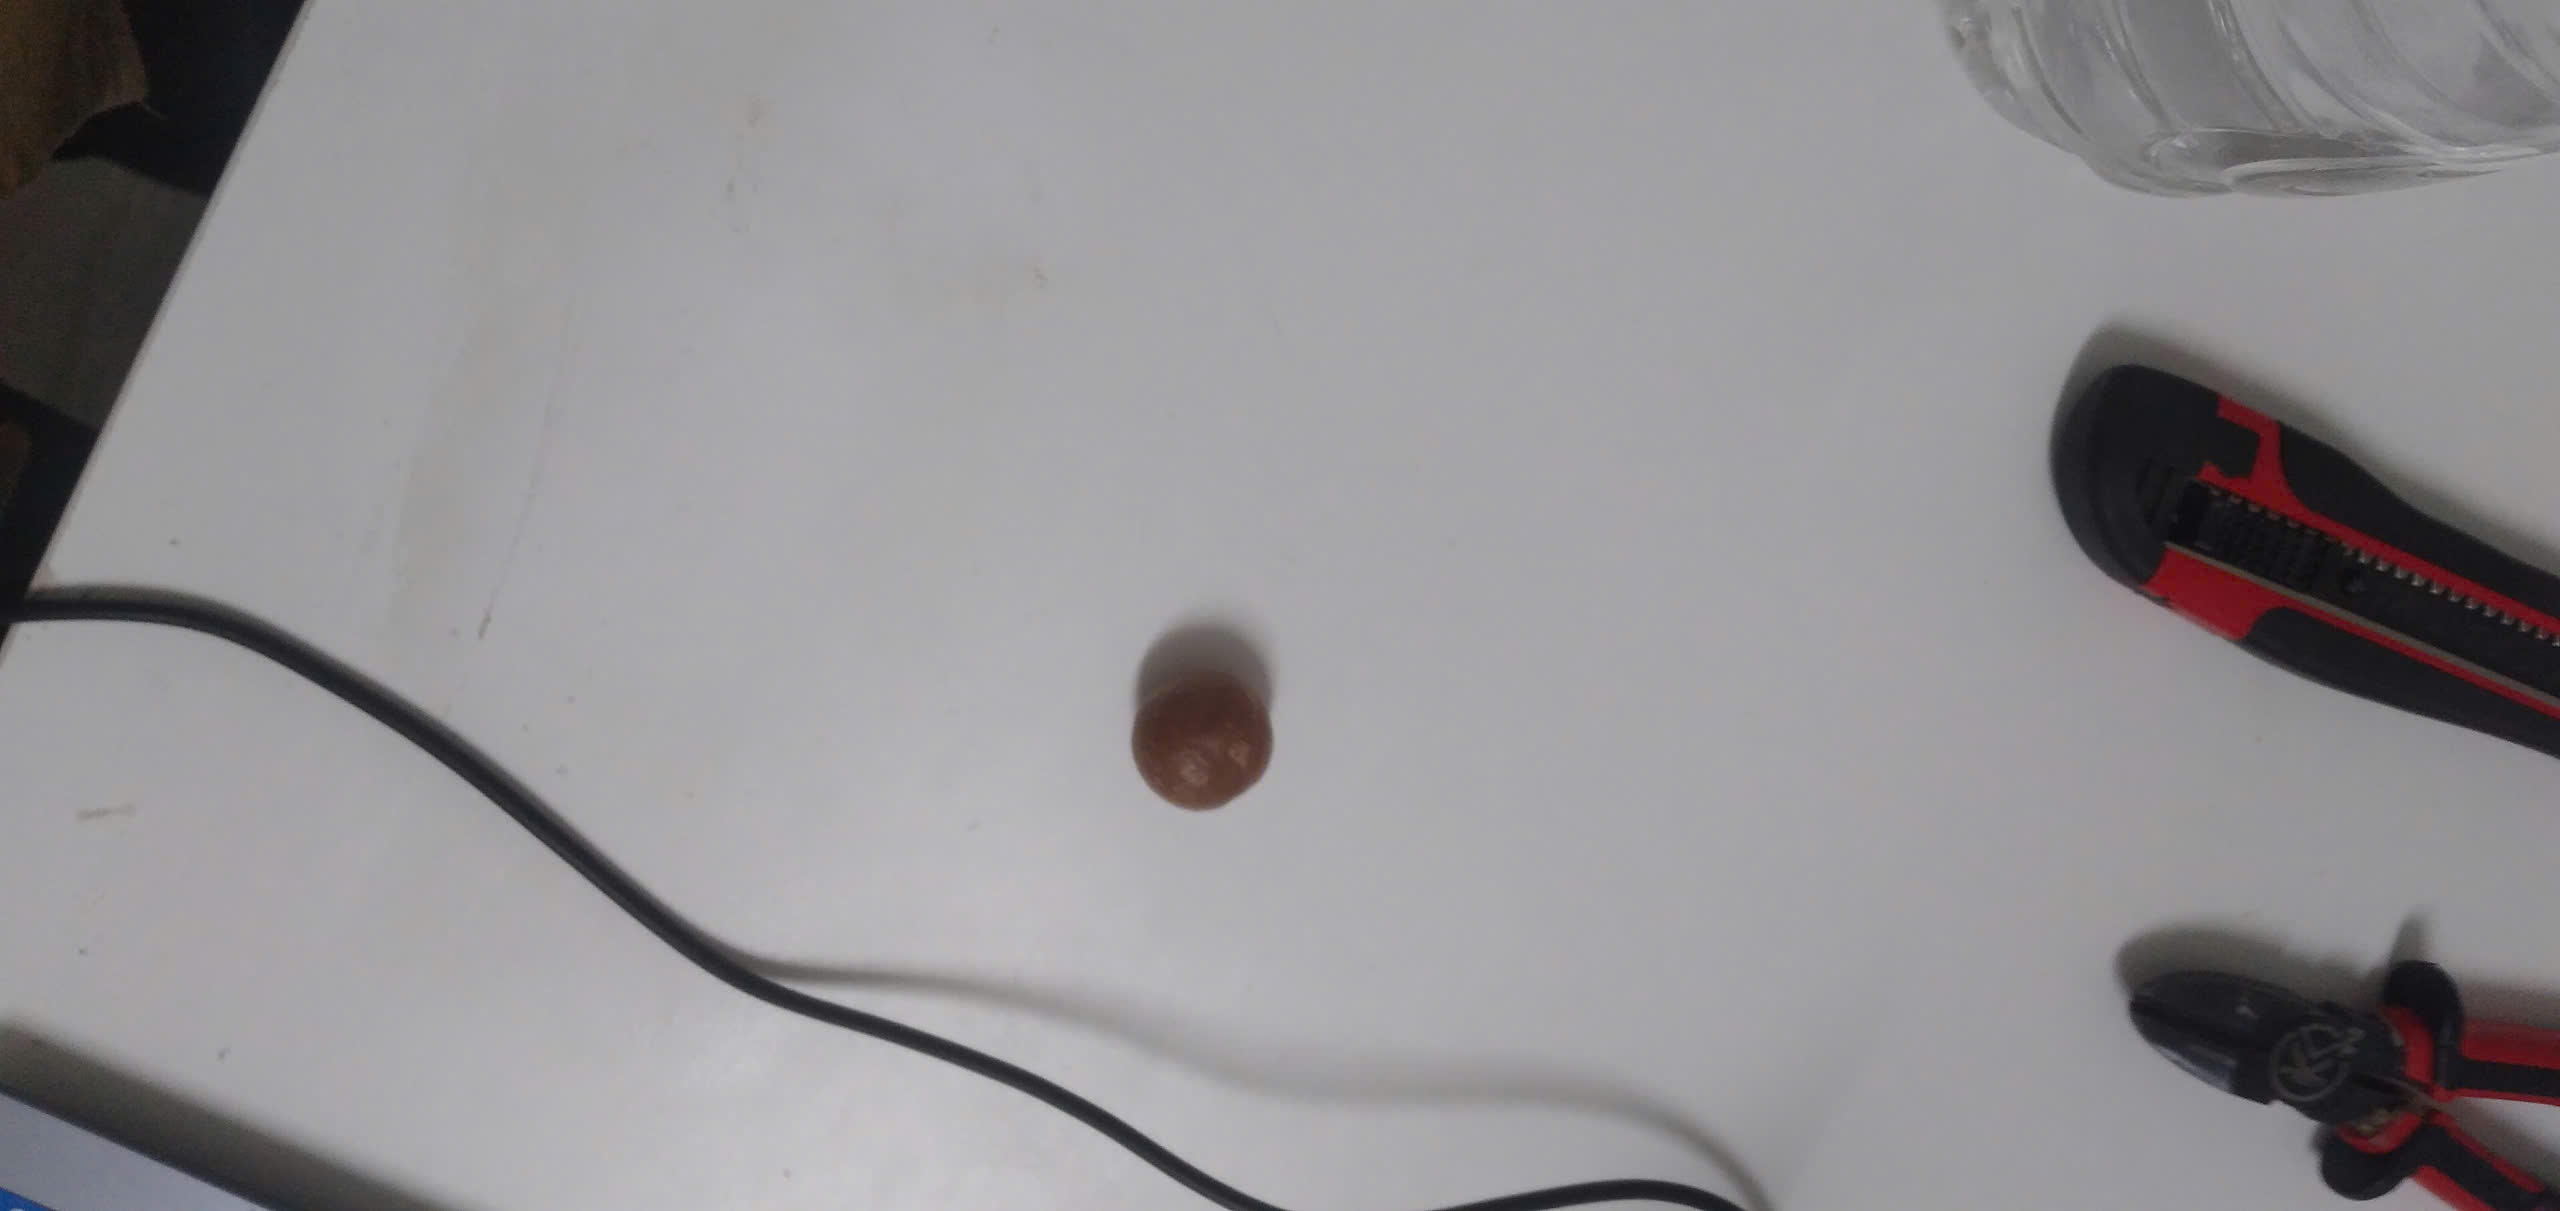mac: (1131, 671, 1272, 810)
